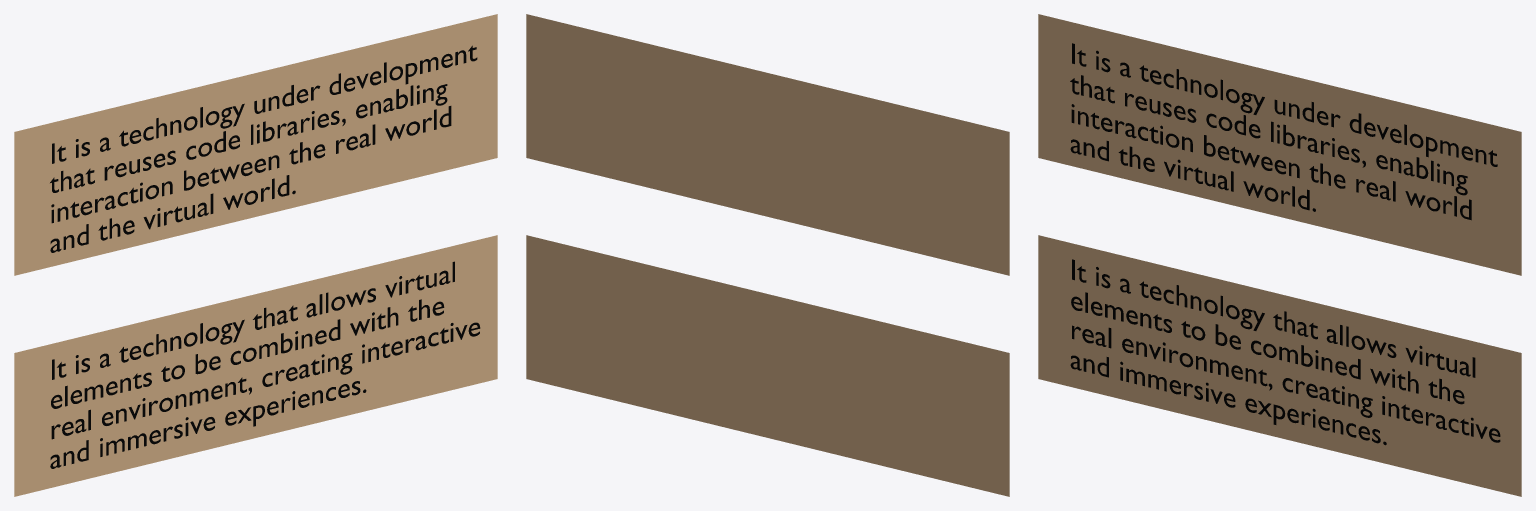
File: Ingles1.glb
3 renders of one model, left to right at view 1: azimuth 30°, elevation 25°; view 2: azimuth 150°, elevation 25°; view 3: azimuth 330°, elevation 25°, orthographic.
Visible parts, largest first — view 1: Plano, Plano.001, Texto.001, Texto; view 2: Plano, Plano.001; view 3: Plano, Plano.001, Texto.001, Texto.
Boxes of the visible parts, bbox=[...] form: Plano: bbox=[14, 14, 497, 275]; Plano.001: bbox=[14, 235, 497, 496]; Texto.001: bbox=[50, 261, 480, 468]; Texto: bbox=[50, 45, 477, 252]; Plano: bbox=[526, 14, 1009, 275]; Plano.001: bbox=[526, 235, 1009, 496]; Plano: bbox=[1038, 14, 1521, 275]; Plano.001: bbox=[1038, 235, 1521, 496]; Texto.001: bbox=[1070, 259, 1500, 445]; Texto: bbox=[1070, 43, 1497, 220].
Bounding box in the file's own units: 17.06 × 12.31 × 0.1148.
